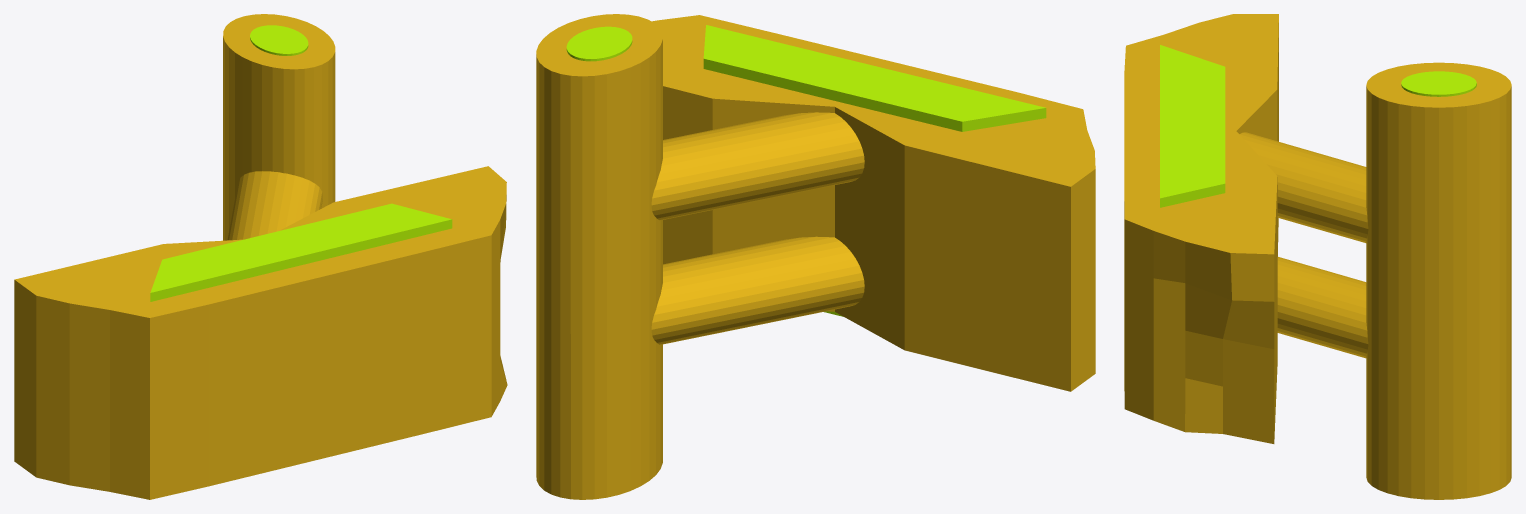
Rendered from kol.fbx.
The picture shows the model from 3 angles, left to right: view 1: azimuth 30°, elevation 25°; view 2: azimuth 150°, elevation 25°; view 3: azimuth 270°, elevation 25°; orthographic projection. The views are drawn at different scales.
Parts seen in each view (by area): view 1: Cube, Cylinder.002, Cube.001, Cylinder, Cylinder.003; view 2: Cube, Cylinder.002, Cylinder, Cylinder.001, Cube.001, Cylinder.003; view 3: Cylinder.002, Cube, Cube.001, Cylinder, Cylinder.001, Cylinder.003.
Part boxes in pixels (bbox=[...]): Cube: bbox=[14, 166, 507, 499]; Cylinder.002: bbox=[223, 14, 335, 240]; Cube.001: bbox=[150, 203, 452, 301]; Cylinder: bbox=[227, 171, 322, 240]; Cylinder.003: bbox=[250, 25, 308, 55]; Cube: bbox=[652, 15, 1095, 391]; Cylinder.002: bbox=[536, 14, 662, 499]; Cylinder: bbox=[651, 112, 864, 220]; Cylinder.001: bbox=[651, 236, 864, 344]; Cube.001: bbox=[703, 25, 1046, 316]; Cylinder.003: bbox=[566, 26, 632, 61]; Cylinder.002: bbox=[1366, 62, 1511, 499]; Cube: bbox=[1124, 14, 1278, 443]; Cube.001: bbox=[1160, 45, 1225, 207]; Cylinder: bbox=[1239, 132, 1368, 242]; Cylinder.001: bbox=[1277, 257, 1368, 358]; Cylinder.003: bbox=[1401, 71, 1476, 96].
Bounding box in the file's own units: 24.67 × 18.98 × 16.81.
